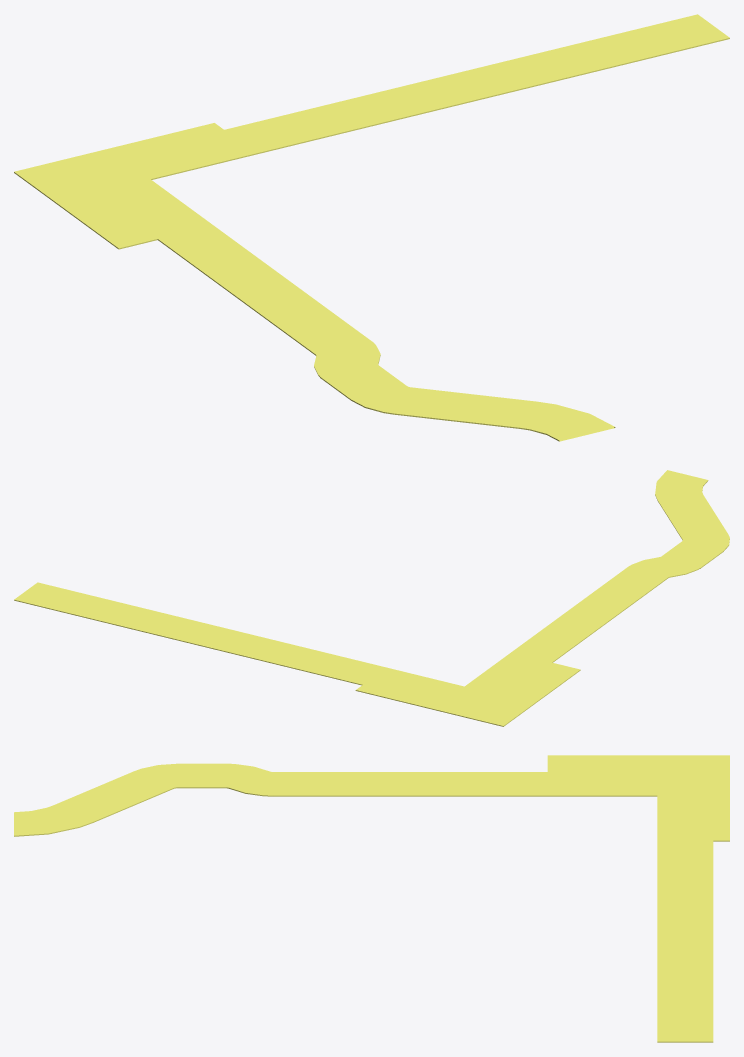
File: Huldra-small-area-walkway.obj
3 views of the same model, one above another, from view 1: azimuth 30°, elevation 25°; view 2: azimuth 150°, elevation 25°; view 3: azimuth 270°, elevation 25° (orthographic). The views are drawn at different scales.
Parts seen in each view (by area): view 1: BOX_2_of_SUBSTRUCTURE_/ESCAPE-MEZZ/FLOOR_Mesh, BOX_18_of_SUBSTRUCTURE_/ESCAPE-MEZZ/FLOOR_Mesh.005, BOX_16_of_SUBSTRUCTURE_/ESCAPE-MEZZ/FLOOR_Mesh.002, BOX_3_of_SUBSTRUCTURE_/ESCAPE-MEZZ/FLOOR_Mesh.001, BOX_19_of_SUBSTRUCTURE_/ESCAPE-MEZZ/FLOOR_Mesh.009, RTORUS_3_of_SUBSTRUCTURE_/ESCAPE-MEZZ/FLOOR_Mesh.006, BOX_17_of_SUBSTRUCTURE_/ESCAPE-MEZZ/FLOOR_Mesh.004, RTORUS_2_of_SUBSTRUCTURE_/ESCAPE-MEZZ/FLOOR_Mesh.003, RTORUS_4_of_SUBSTRUCTURE_/ESCAPE-MEZZ/FLOOR_Mesh.007, RTORUS_5_of_SUBSTRUCTURE_/ESCAPE-MEZZ/FLOOR_Mesh.008; view 2: BOX_2_of_SUBSTRUCTURE_/ESCAPE-MEZZ/FLOOR_Mesh, BOX_18_of_SUBSTRUCTURE_/ESCAPE-MEZZ/FLOOR_Mesh.005, BOX_16_of_SUBSTRUCTURE_/ESCAPE-MEZZ/FLOOR_Mesh.002, BOX_3_of_SUBSTRUCTURE_/ESCAPE-MEZZ/FLOOR_Mesh.001, BOX_19_of_SUBSTRUCTURE_/ESCAPE-MEZZ/FLOOR_Mesh.009, RTORUS_3_of_SUBSTRUCTURE_/ESCAPE-MEZZ/FLOOR_Mesh.006, BOX_17_of_SUBSTRUCTURE_/ESCAPE-MEZZ/FLOOR_Mesh.004, RTORUS_2_of_SUBSTRUCTURE_/ESCAPE-MEZZ/FLOOR_Mesh.003, RTORUS_4_of_SUBSTRUCTURE_/ESCAPE-MEZZ/FLOOR_Mesh.007; view 3: BOX_2_of_SUBSTRUCTURE_/ESCAPE-MEZZ/FLOOR_Mesh, BOX_18_of_SUBSTRUCTURE_/ESCAPE-MEZZ/FLOOR_Mesh.005, BOX_16_of_SUBSTRUCTURE_/ESCAPE-MEZZ/FLOOR_Mesh.002, BOX_3_of_SUBSTRUCTURE_/ESCAPE-MEZZ/FLOOR_Mesh.001, BOX_19_of_SUBSTRUCTURE_/ESCAPE-MEZZ/FLOOR_Mesh.009, RTORUS_3_of_SUBSTRUCTURE_/ESCAPE-MEZZ/FLOOR_Mesh.006, BOX_17_of_SUBSTRUCTURE_/ESCAPE-MEZZ/FLOOR_Mesh.004, RTORUS_2_of_SUBSTRUCTURE_/ESCAPE-MEZZ/FLOOR_Mesh.003, RTORUS_5_of_SUBSTRUCTURE_/ESCAPE-MEZZ/FLOOR_Mesh.008, RTORUS_4_of_SUBSTRUCTURE_/ESCAPE-MEZZ/FLOOR_Mesh.007.
Boxes of the visible parts, box(x1,y1,x2,y2) form: BOX_2_of_SUBSTRUCTURE_/ESCAPE-MEZZ/FLOOR_Mesh: box(224, 14, 729, 154); BOX_18_of_SUBSTRUCTURE_/ESCAPE-MEZZ/FLOOR_Mesh.005: box(14, 148, 212, 249); BOX_16_of_SUBSTRUCTURE_/ESCAPE-MEZZ/FLOOR_Mesh.002: box(157, 225, 373, 356); BOX_3_of_SUBSTRUCTURE_/ESCAPE-MEZZ/FLOOR_Mesh.001: box(109, 123, 256, 179); BOX_19_of_SUBSTRUCTURE_/ESCAPE-MEZZ/FLOOR_Mesh.009: box(394, 387, 536, 428); RTORUS_3_of_SUBSTRUCTURE_/ESCAPE-MEZZ/FLOOR_Mesh.006: box(520, 401, 615, 441); BOX_17_of_SUBSTRUCTURE_/ESCAPE-MEZZ/FLOOR_Mesh.004: box(320, 363, 406, 400); RTORUS_2_of_SUBSTRUCTURE_/ESCAPE-MEZZ/FLOOR_Mesh.003: box(351, 386, 410, 414); RTORUS_4_of_SUBSTRUCTURE_/ESCAPE-MEZZ/FLOOR_Mesh.007: box(314, 356, 378, 376); RTORUS_5_of_SUBSTRUCTURE_/ESCAPE-MEZZ/FLOOR_Mesh.008: box(316, 343, 380, 363); BOX_2_of_SUBSTRUCTURE_/ESCAPE-MEZZ/FLOOR_Mesh: box(14, 582, 386, 685); BOX_18_of_SUBSTRUCTURE_/ESCAPE-MEZZ/FLOOR_Mesh.005: box(433, 652, 580, 726); BOX_16_of_SUBSTRUCTURE_/ESCAPE-MEZZ/FLOOR_Mesh.002: box(511, 566, 669, 662); BOX_3_of_SUBSTRUCTURE_/ESCAPE-MEZZ/FLOOR_Mesh.001: box(355, 667, 463, 709); BOX_19_of_SUBSTRUCTURE_/ESCAPE-MEZZ/FLOOR_Mesh.009: box(657, 495, 728, 539); RTORUS_3_of_SUBSTRUCTURE_/ESCAPE-MEZZ/FLOOR_Mesh.006: box(655, 470, 708, 500); BOX_17_of_SUBSTRUCTURE_/ESCAPE-MEZZ/FLOOR_Mesh.004: box(660, 541, 723, 568); RTORUS_2_of_SUBSTRUCTURE_/ESCAPE-MEZZ/FLOOR_Mesh.003: box(682, 534, 729, 551); RTORUS_4_of_SUBSTRUCTURE_/ESCAPE-MEZZ/FLOOR_Mesh.007: box(659, 556, 701, 577); BOX_2_of_SUBSTRUCTURE_/ESCAPE-MEZZ/FLOOR_Mesh: box(657, 840, 713, 1042); BOX_18_of_SUBSTRUCTURE_/ESCAPE-MEZZ/FLOOR_Mesh.005: box(547, 755, 729, 796); BOX_16_of_SUBSTRUCTURE_/ESCAPE-MEZZ/FLOOR_Mesh.002: box(268, 772, 547, 796); BOX_3_of_SUBSTRUCTURE_/ESCAPE-MEZZ/FLOOR_Mesh.001: box(657, 795, 729, 841); BOX_19_of_SUBSTRUCTURE_/ESCAPE-MEZZ/FLOOR_Mesh.009: box(54, 771, 173, 822); RTORUS_3_of_SUBSTRUCTURE_/ESCAPE-MEZZ/FLOOR_Mesh.006: box(14, 805, 92, 836); BOX_17_of_SUBSTRUCTURE_/ESCAPE-MEZZ/FLOOR_Mesh.004: box(177, 763, 231, 788); RTORUS_2_of_SUBSTRUCTURE_/ESCAPE-MEZZ/FLOOR_Mesh.003: box(134, 763, 177, 788); RTORUS_5_of_SUBSTRUCTURE_/ESCAPE-MEZZ/FLOOR_Mesh.008: box(230, 771, 273, 796); RTORUS_4_of_SUBSTRUCTURE_/ESCAPE-MEZZ/FLOOR_Mesh.007: box(226, 764, 268, 788).
Bounding box in the file's own units: 12.1 × 0.02 × 12.8.
